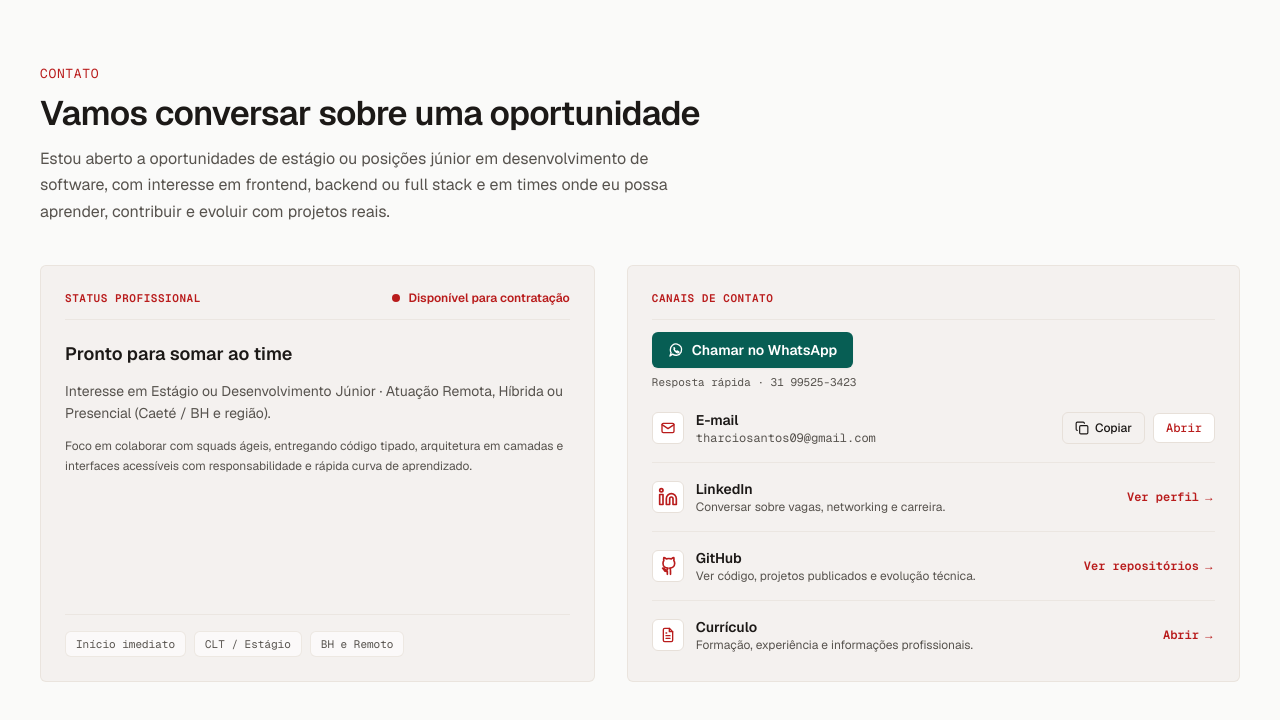
Contact › deve mostrar "Copiado" após clicar no botão
This screenshot has width=1280, height=720.
Click the button with aria-label "copiar e-mail" at coordinates (1104, 428), box left=1062, top=412, right=1145, bottom=444
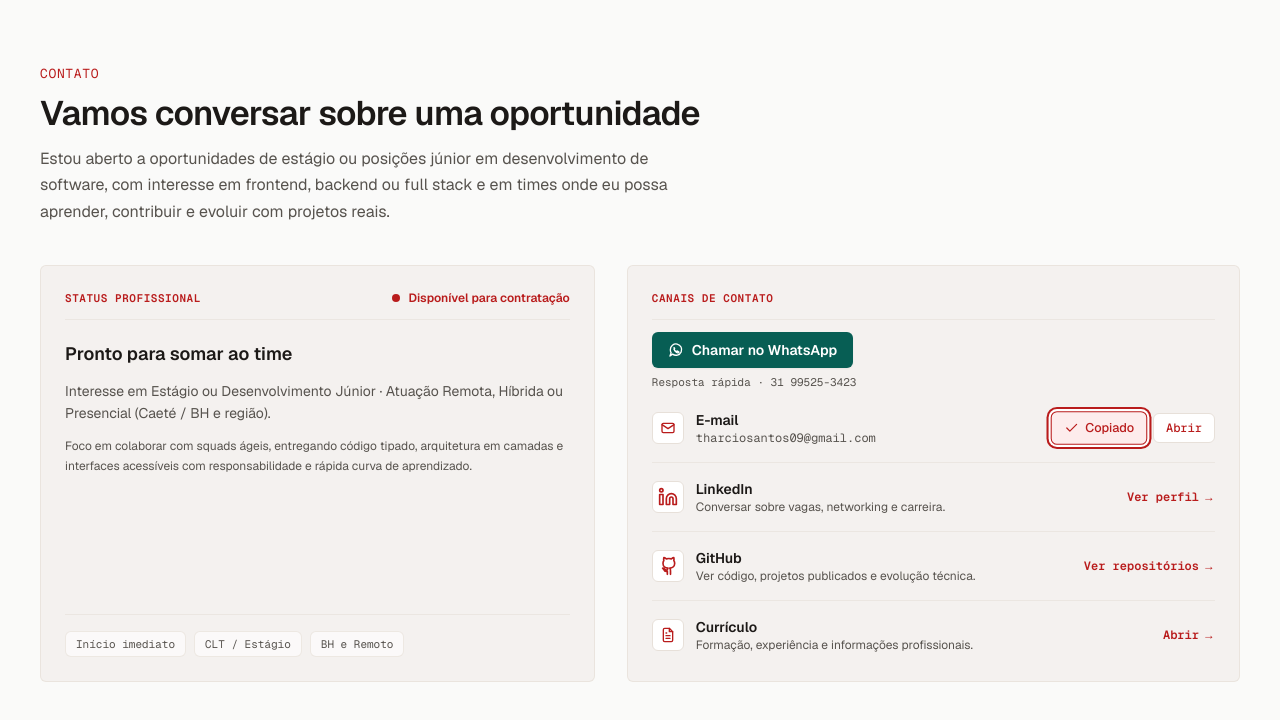
Check: the button "Copiado" is shown, box left=1050, top=411, right=1147, bottom=445
